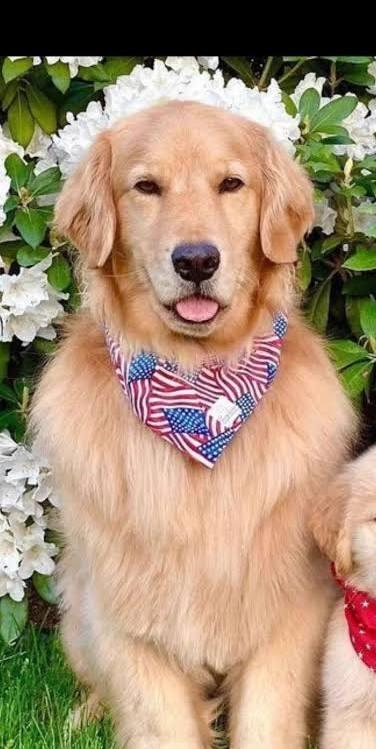adult_dog: (27, 97, 360, 749)
puppy-dog: (315, 444, 376, 749)
